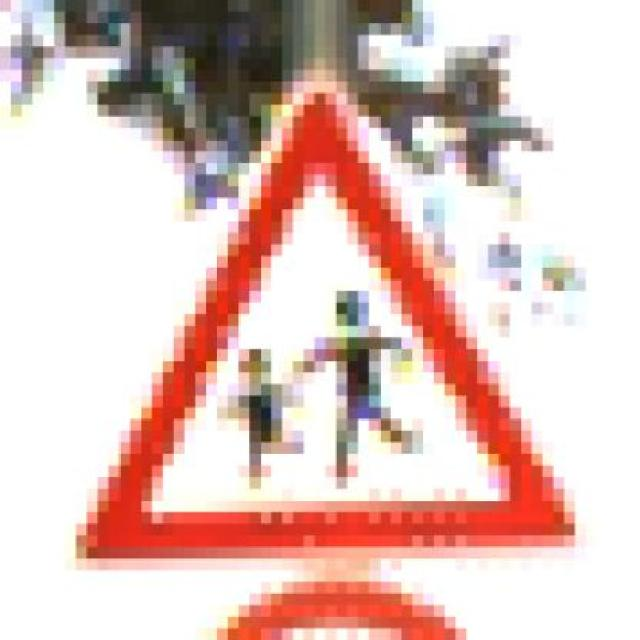Beware of children: (43, 70, 586, 582)
